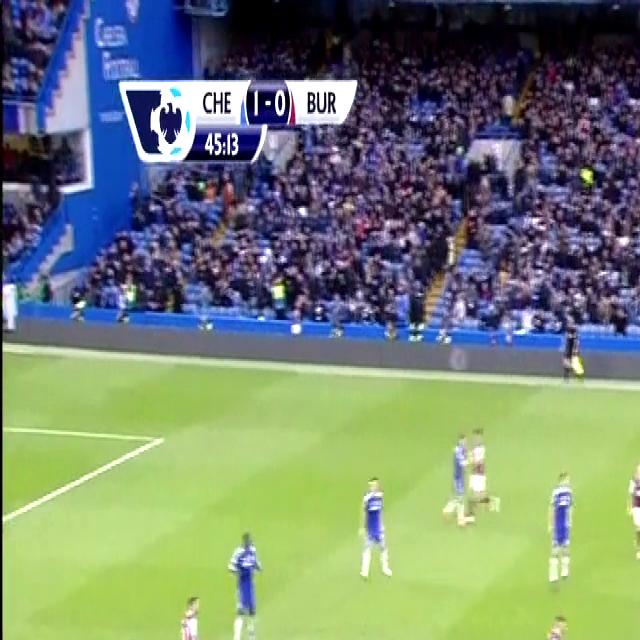referee: (553, 294, 585, 386)
soccer-player: (354, 464, 399, 593), (219, 517, 266, 640), (541, 454, 577, 590), (458, 417, 498, 528), (444, 416, 478, 532), (618, 444, 640, 566), (170, 585, 209, 640), (523, 604, 572, 640)
